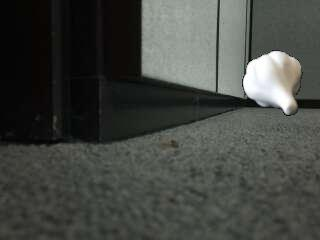Garlic: (242, 49, 304, 116)
